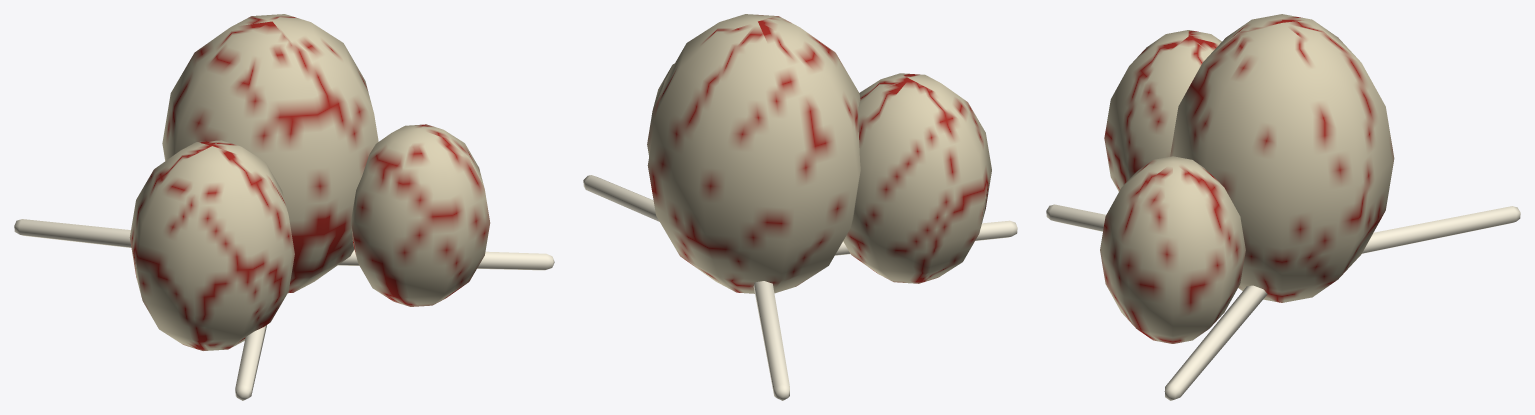
File: prop_egg_11c6.glb
The picture shows the model from 3 angles, left to right: view 1: azimuth 30°, elevation 25°; view 2: azimuth 150°, elevation 25°; view 3: azimuth 270°, elevation 25°; orthographic projection. The views are drawn at different scales.
Parts seen in each view (by area): view 1: prop_egg_11c6; view 2: prop_egg_11c6; view 3: prop_egg_11c6.
Boxes of the visible parts, bbox=[...] form: prop_egg_11c6: bbox=[14, 14, 554, 400]; prop_egg_11c6: bbox=[583, 14, 1017, 400]; prop_egg_11c6: bbox=[1046, 14, 1520, 400].
Size of the model in its own units: 0.6813 by 0.4242 by 0.6723.
1 material, 1 textured.
